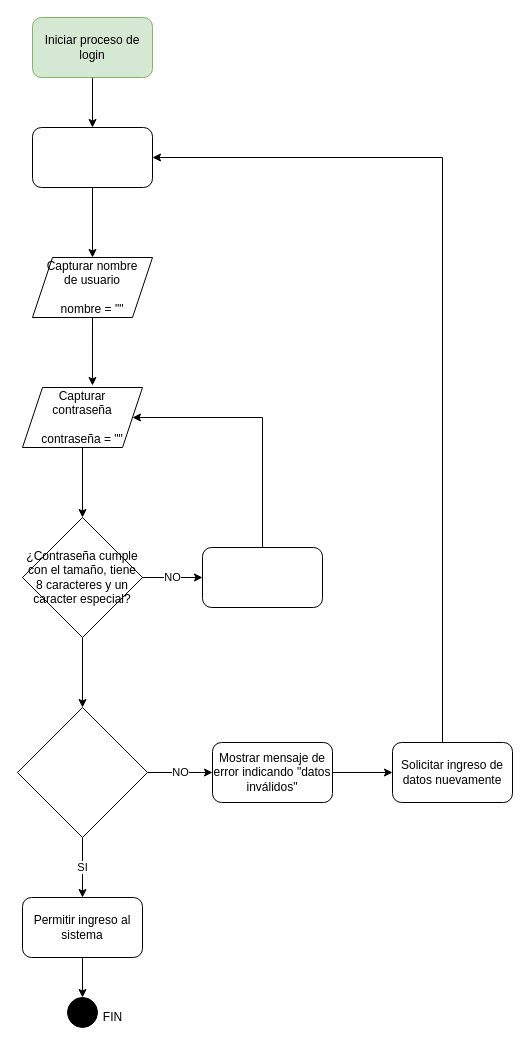
Image size: 530x1045. Some labels were removed from this diagram. Each missing label, with the centre of its shape:
"Mostrar mensaje de error sobre el recuadro de contraseña" belongs at (262,577).
"Mostrar mensaje informativo al usuario de ingreso de datos para el login" belongs at (92,157).
"¿Los datos nombre de usuario y contraseña son correctos?" belongs at (82,772).
